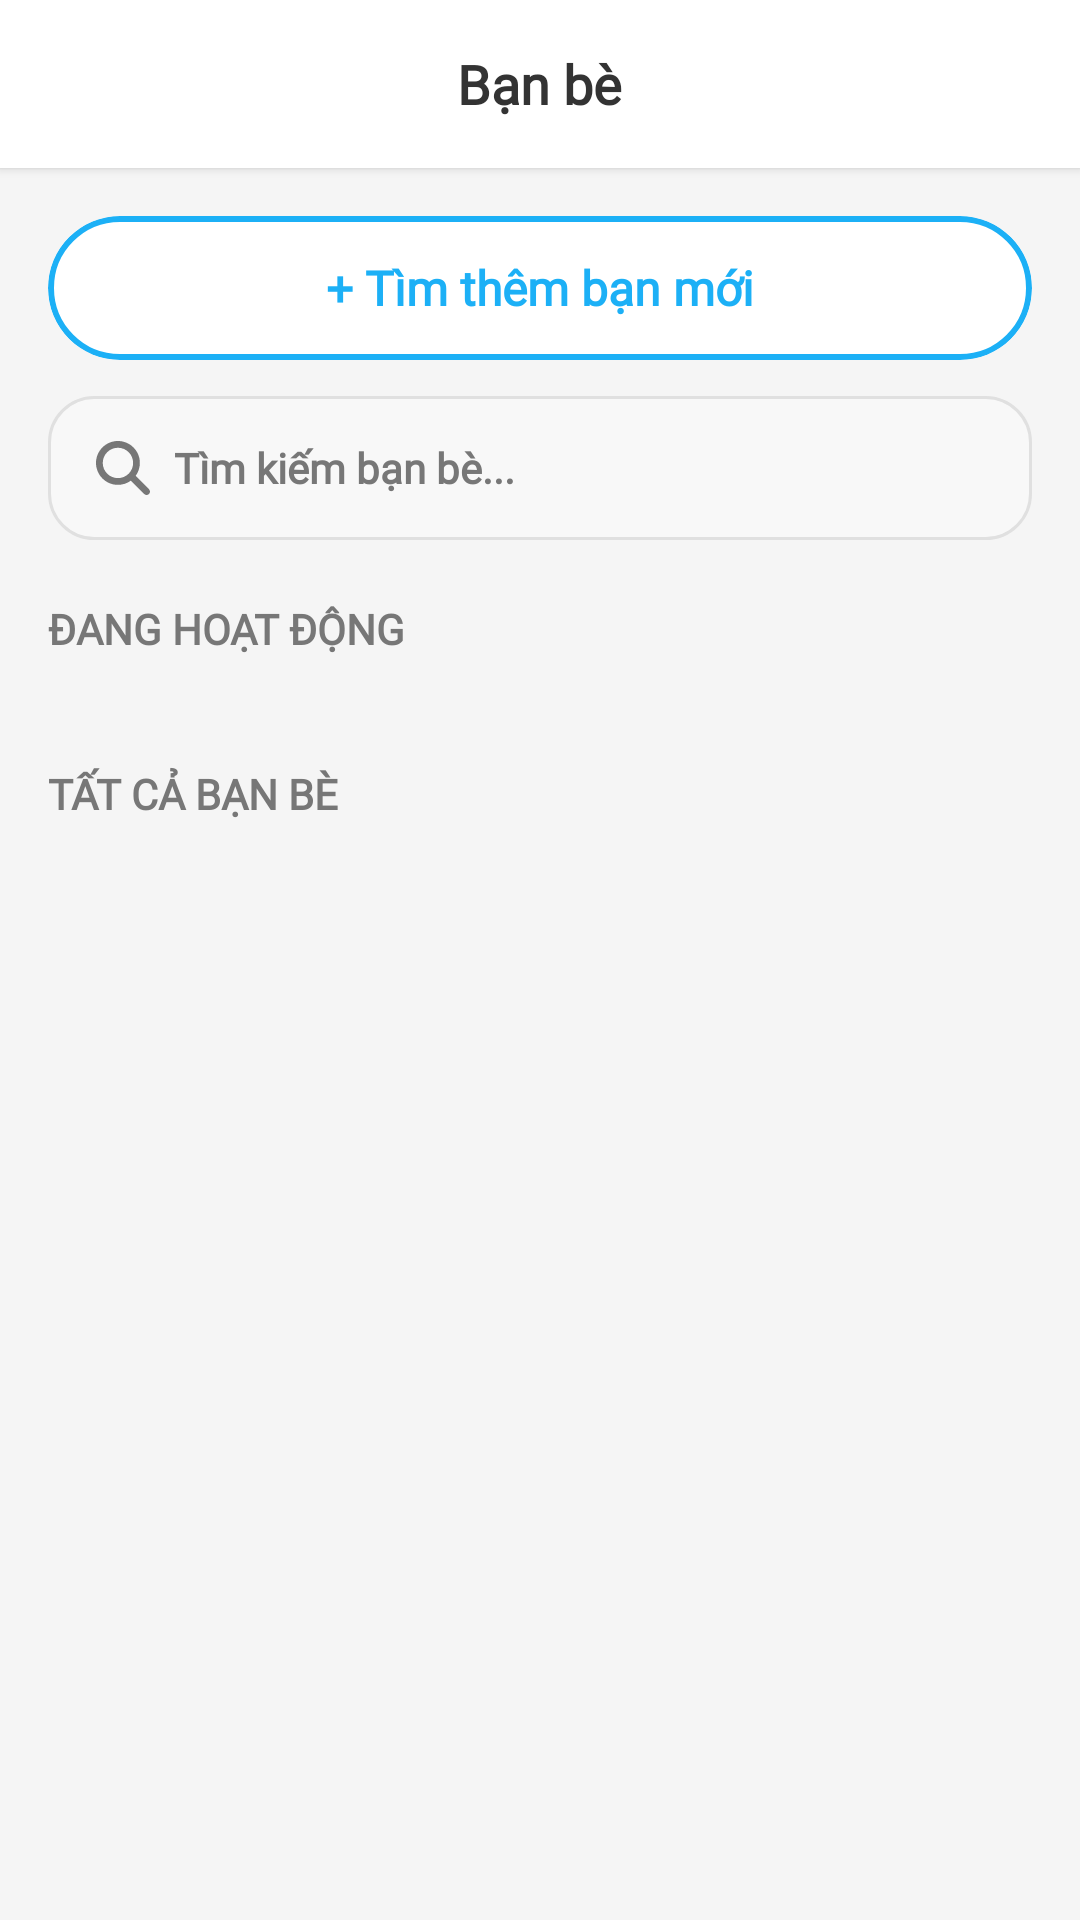

Named icons in this screenshot (1080px x 1920px) and their centers, point (x, y):
search: point (123, 468)
